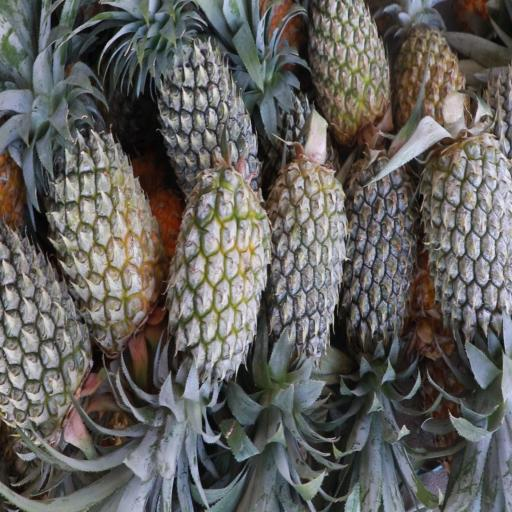------------------------------: (168, 175, 267, 396), (51, 129, 158, 333), (312, 0, 389, 146), (396, 0, 462, 148)
